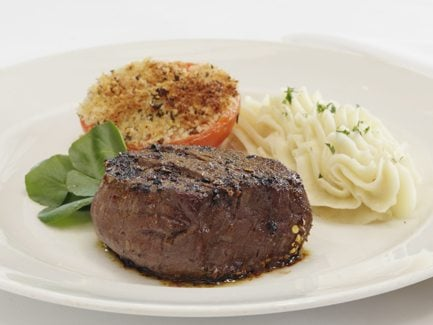soup: (89, 144, 315, 284)
